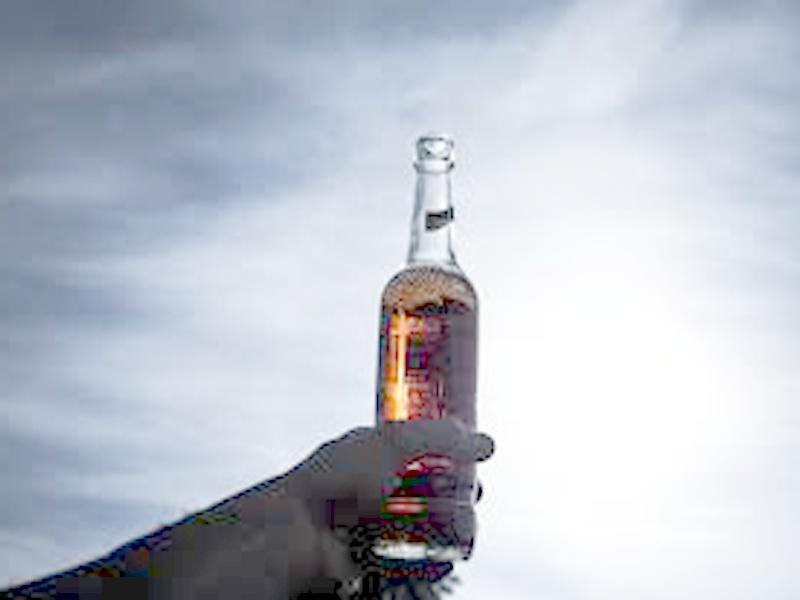Beer: (374, 134, 473, 554)
